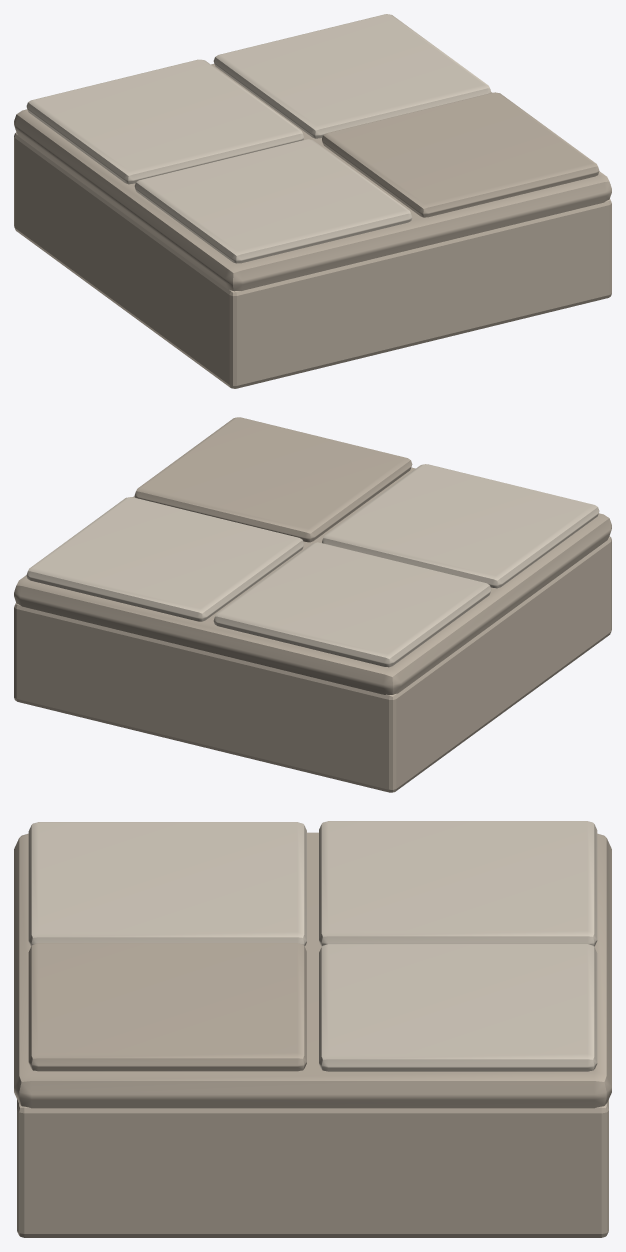
File: tile_path.glb
The picture shows the model from 3 angles, top to bottom: view 1: azimuth 30°, elevation 25°; view 2: azimuth 150°, elevation 25°; view 3: azimuth 270°, elevation 25°; orthographic projection. The views are drawn at different scales.
Parts seen in each view (by area): view 1: pa_body, pa_slab10, pa_slab00, pa_slab01, pa_slab11, pa_cap; view 2: pa_body, pa_slab01, pa_slab11, pa_slab10, pa_slab00, pa_cap; view 3: pa_body, pa_slab10, pa_slab11, pa_slab01, pa_slab00, pa_cap.
Boxes of the visible parts, x1,y1,x2,y2 form: pa_body: (14,132,611,388); pa_slab10: (322,92,599,217); pa_slab00: (134,139,412,263); pa_slab01: (26,59,303,184); pa_slab11: (213,14,491,138); pa_cap: (14,64,611,291); pa_body: (14,536,611,792); pa_slab01: (213,542,491,667); pa_slab11: (26,497,303,621); pa_slab10: (134,417,412,542); pa_slab00: (322,464,599,588); pa_cap: (14,467,611,694); pa_body: (17,1099,608,1237); pa_slab10: (28,943,306,1071); pa_slab11: (319,944,597,1071); pa_slab01: (319,821,597,946); pa_slab00: (28,822,306,946); pa_cap: (14,832,611,1108).
Size of the model in its own units: 2.02 by 0.6667 by 2.02.
